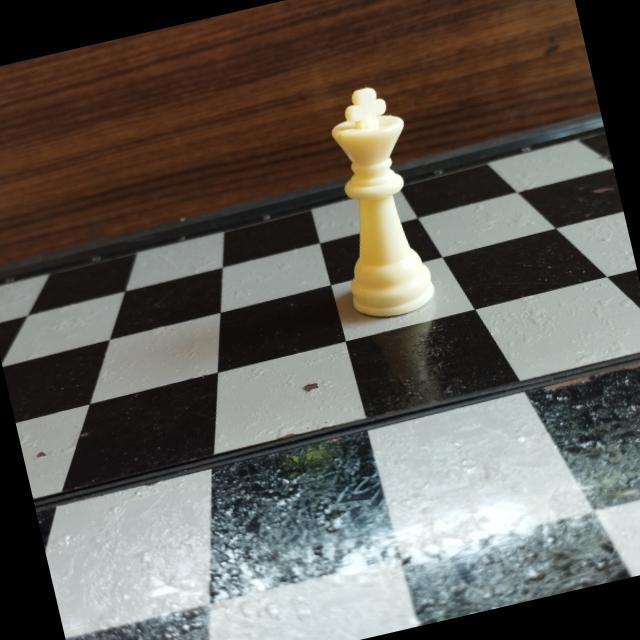White King: (300, 70, 450, 330)
